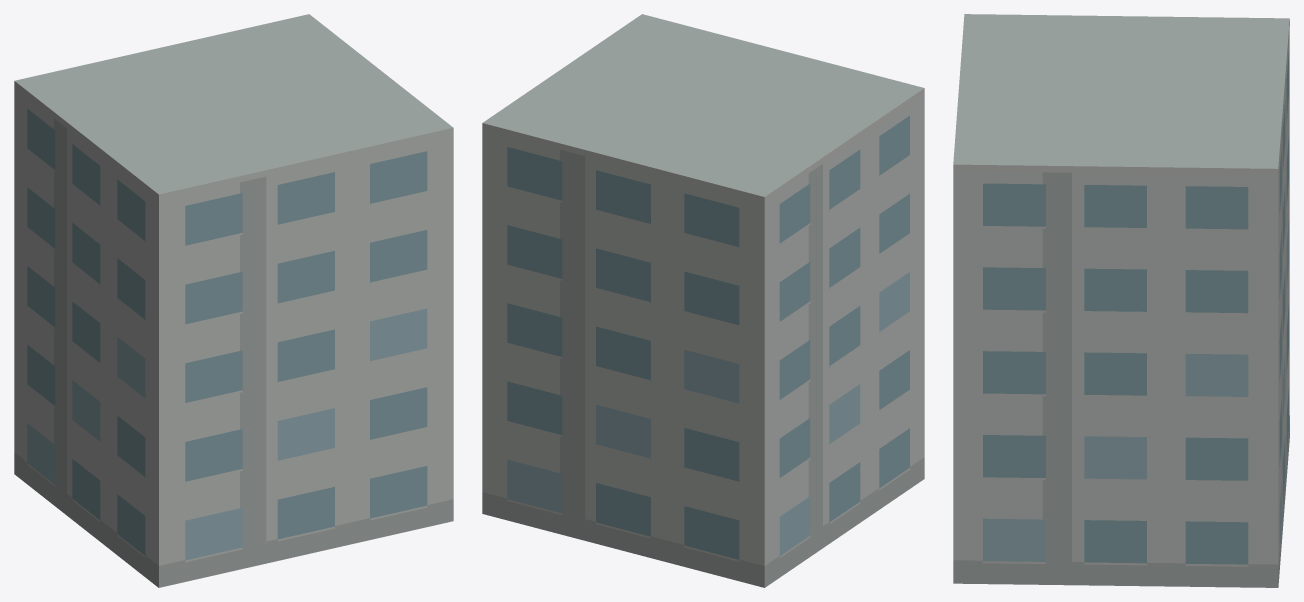
Rendered from residential-27340413-4ffd-4049-90d7-7ad6d5037614.glb.
3 renders of one model, left to right at view 1: azimuth 30°, elevation 25°; view 2: azimuth 150°, elevation 25°; view 3: azimuth 270°, elevation 25°, orthographic. The views are drawn at different scales.
Parts seen in each view (by area): view 1: residential-27340413-4ffd-4049-90d7-7ad6d5037614.tmp; view 2: residential-27340413-4ffd-4049-90d7-7ad6d5037614.tmp; view 3: residential-27340413-4ffd-4049-90d7-7ad6d5037614.tmp.
Part boxes in pixels (left/top/right/bottom): residential-27340413-4ffd-4049-90d7-7ad6d5037614.tmp: left=14, top=14, right=453, bottom=587; residential-27340413-4ffd-4049-90d7-7ad6d5037614.tmp: left=482, top=14, right=924, bottom=587; residential-27340413-4ffd-4049-90d7-7ad6d5037614.tmp: left=953, top=14, right=1289, bottom=587.
Size of the model in its own units: 12.09 by 15.25 by 11.11.
